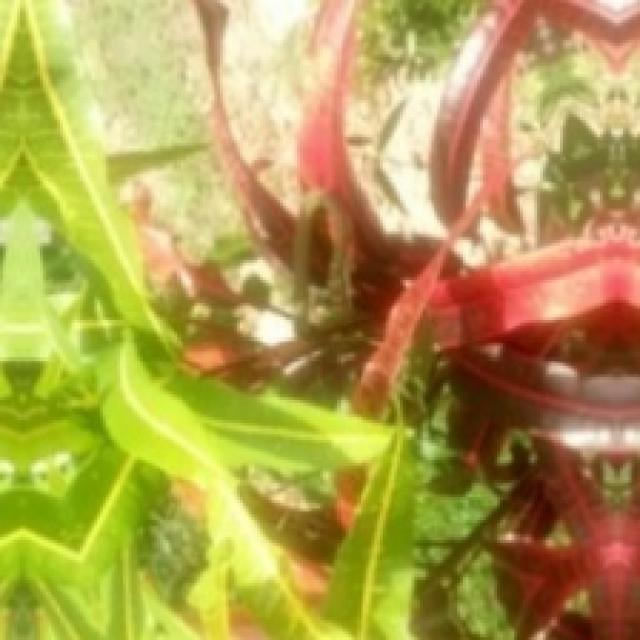paradise tree snake: (186, 0, 637, 637), (349, 31, 463, 234)
